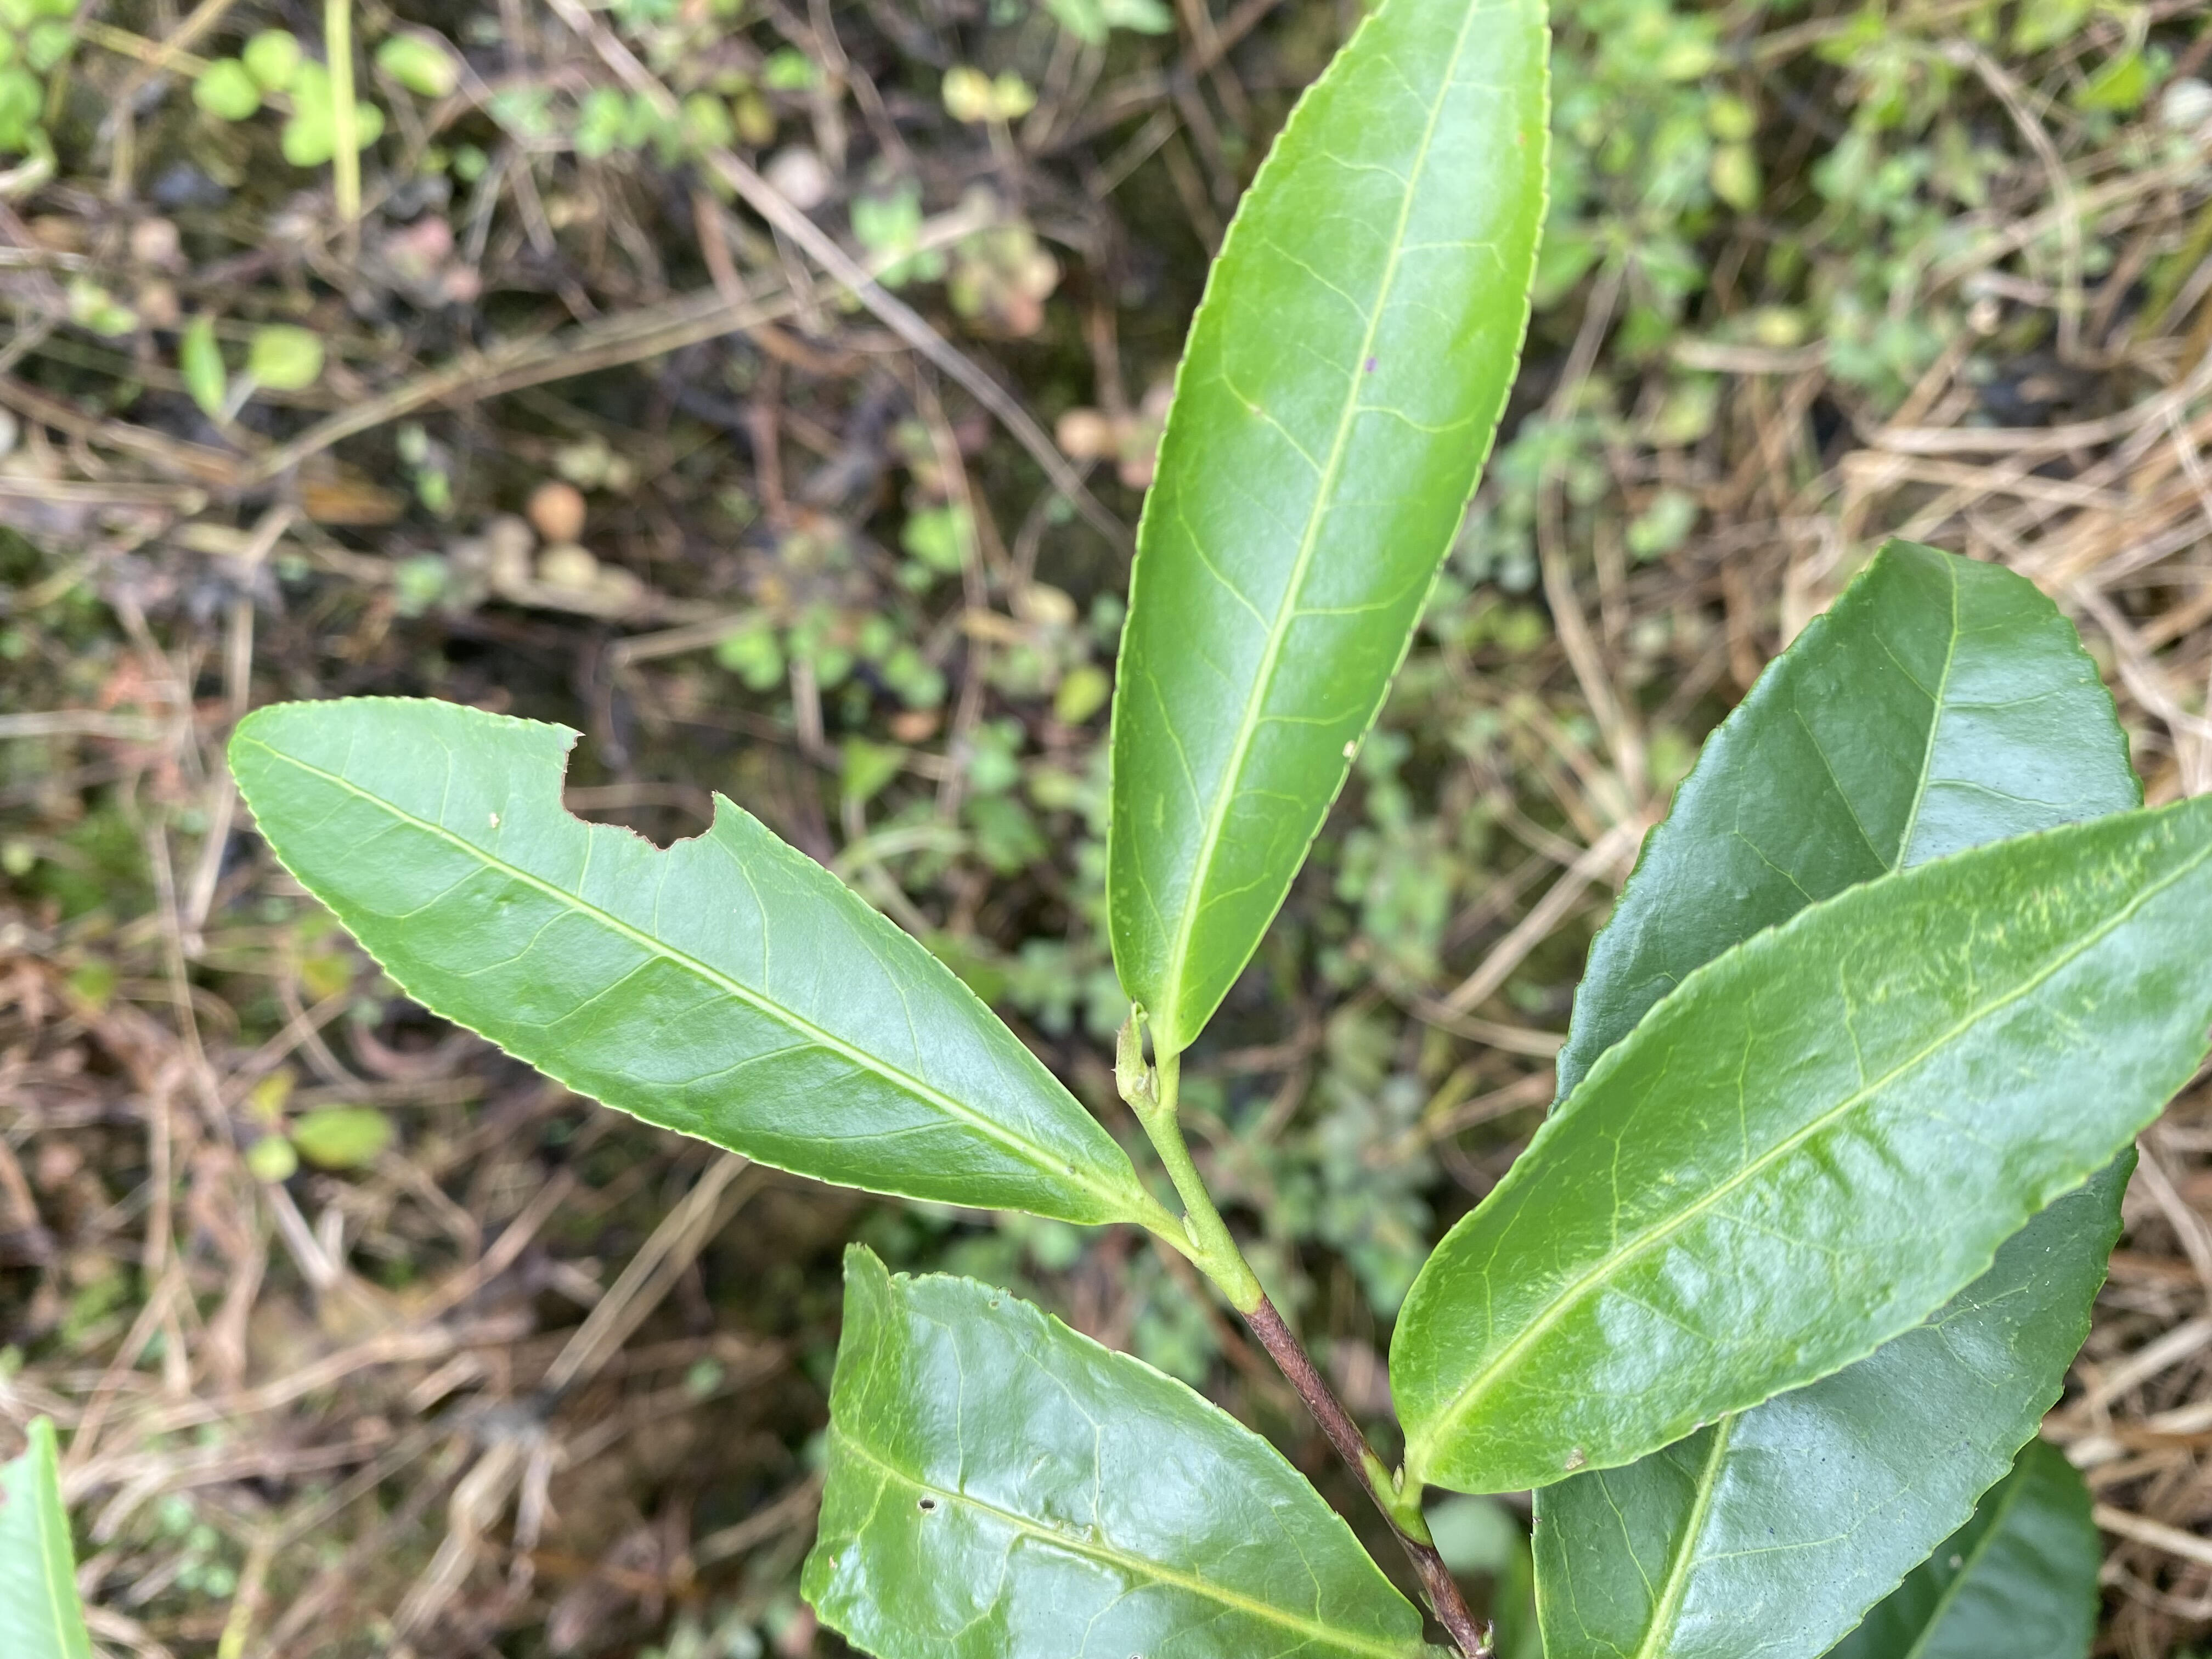chihuo_low: (226, 699, 1144, 1223), (792, 1232, 1426, 1657)
healthy: (1385, 789, 2210, 1497), (1103, 2, 1557, 1054)
